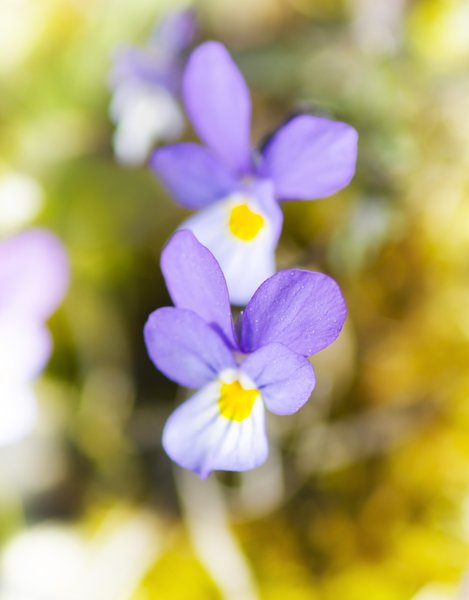violet: (143, 227, 347, 477), (147, 39, 362, 212)
